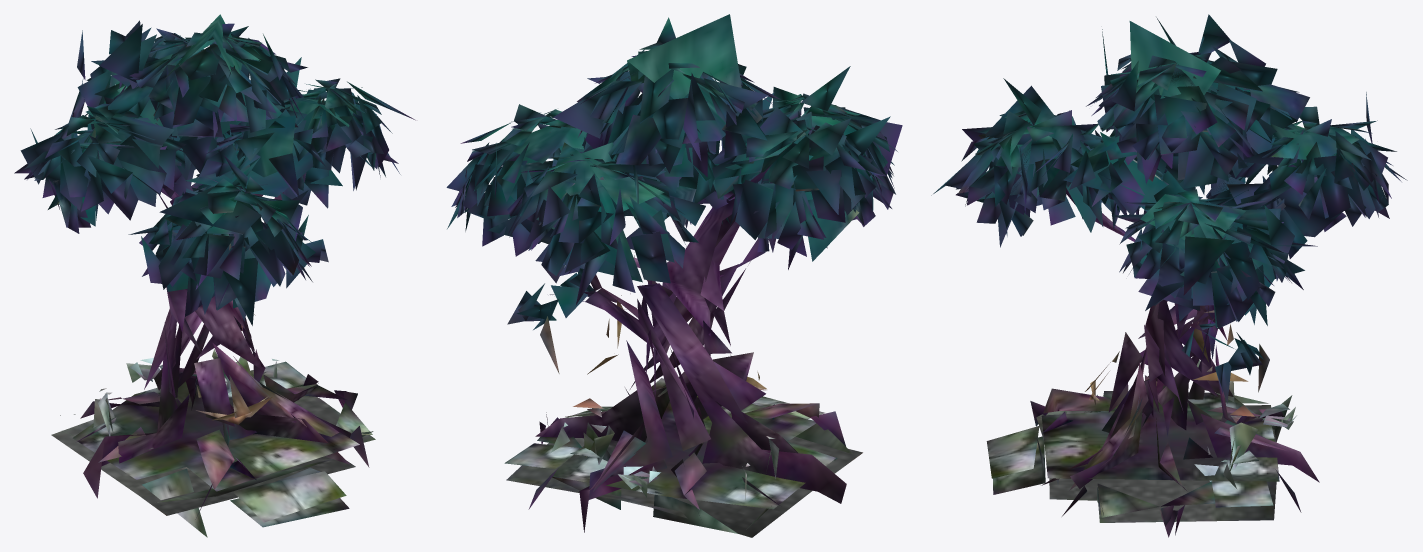
The model's file is p_tree_a_lo.glb.
The picture shows the model from 3 angles, left to right: view 1: azimuth 30°, elevation 25°; view 2: azimuth 150°, elevation 25°; view 3: azimuth 270°, elevation 25°; orthographic projection. The views are drawn at different scales.
Visible parts, largest first — view 1: Mesh_0; view 2: Mesh_0; view 3: Mesh_0.
Boxes of the visible parts, x1,y1,x2,y2 form: Mesh_0: (14,14,415,537); Mesh_0: (446,14,902,537); Mesh_0: (931,14,1407,537).
Bounding box in the file's own units: 0.9779 × 1.11 × 1.04.
Materials: 1 (1 with a texture image).
